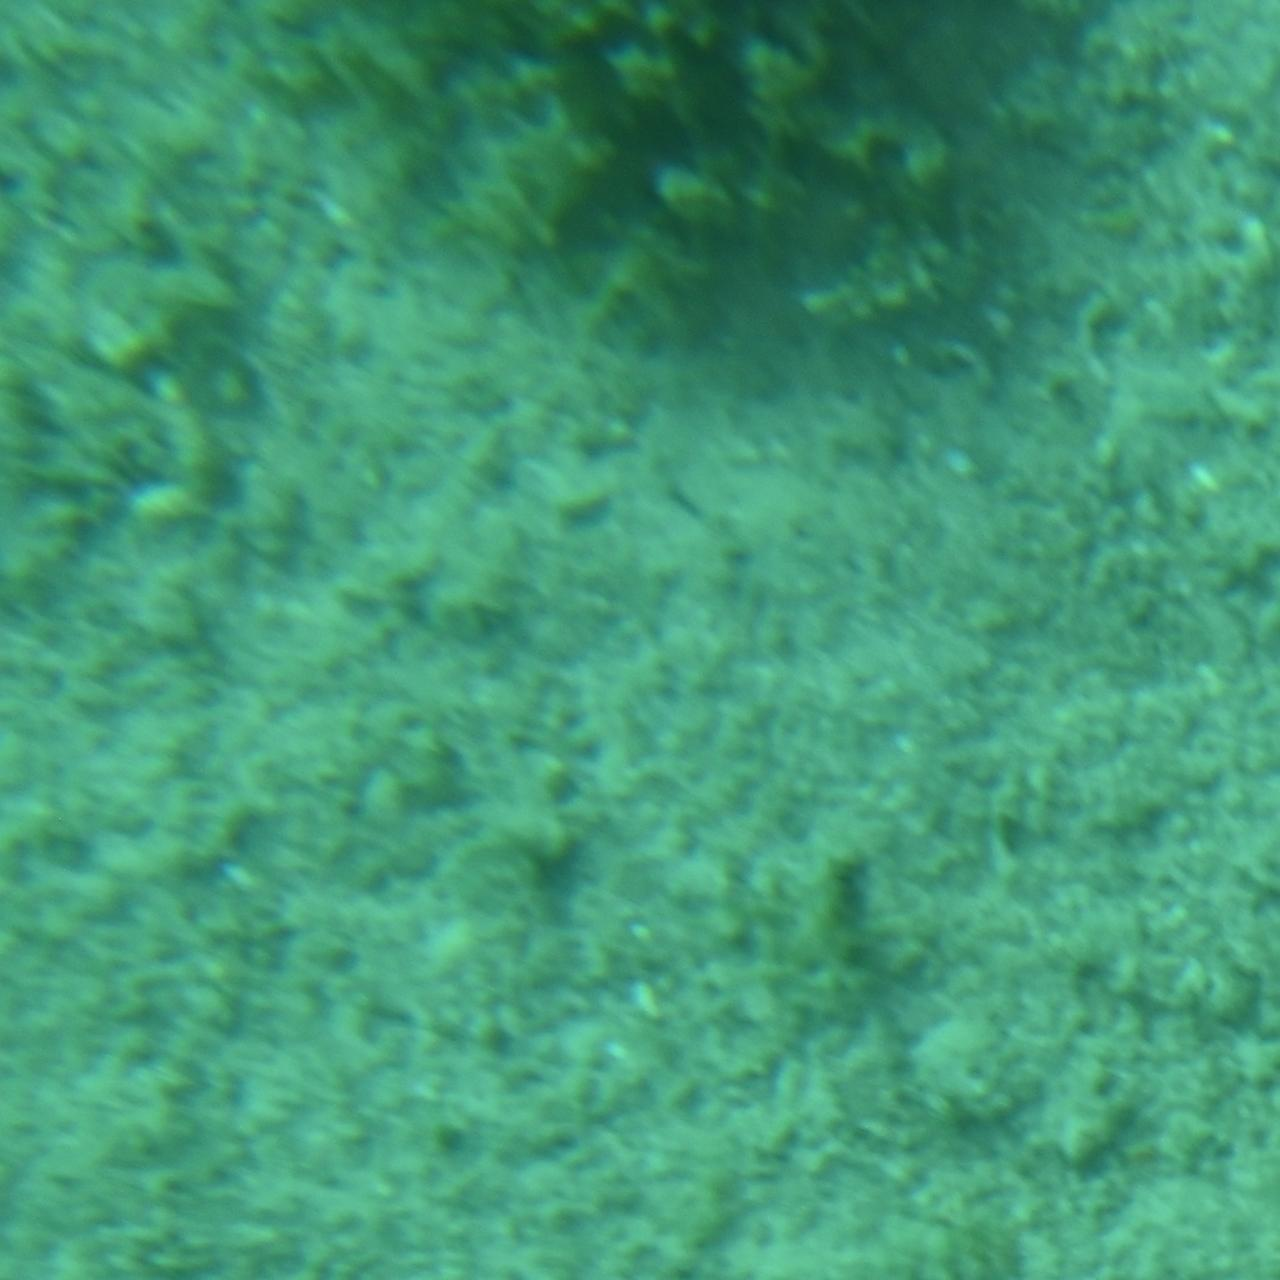Phaeophyceae -cfr Cystoseira-: (274, 0, 1006, 364)
